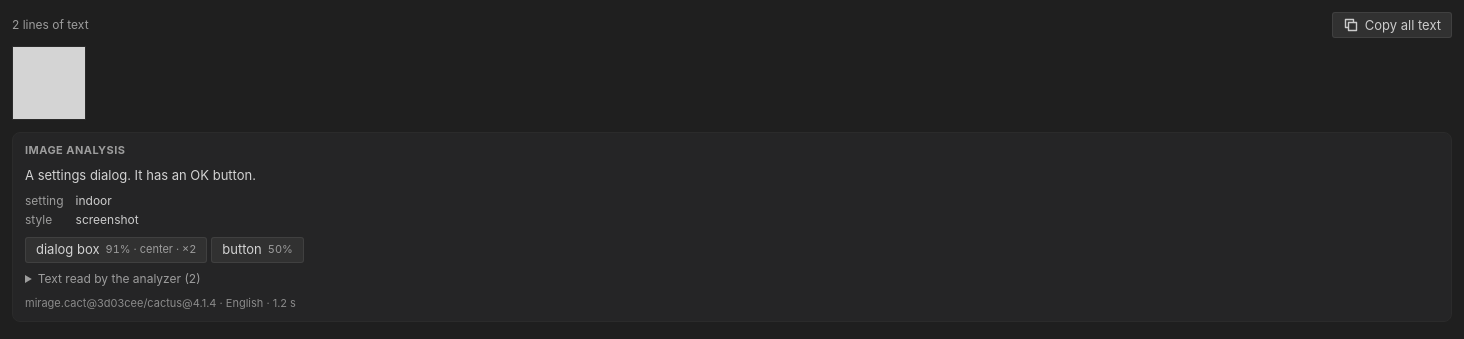
Test case: ScreenshotPreview › copies text through the bridge and confirms it
Click the button "Copy all text".
click(1392, 25)  # box [1332,12,1452,38]
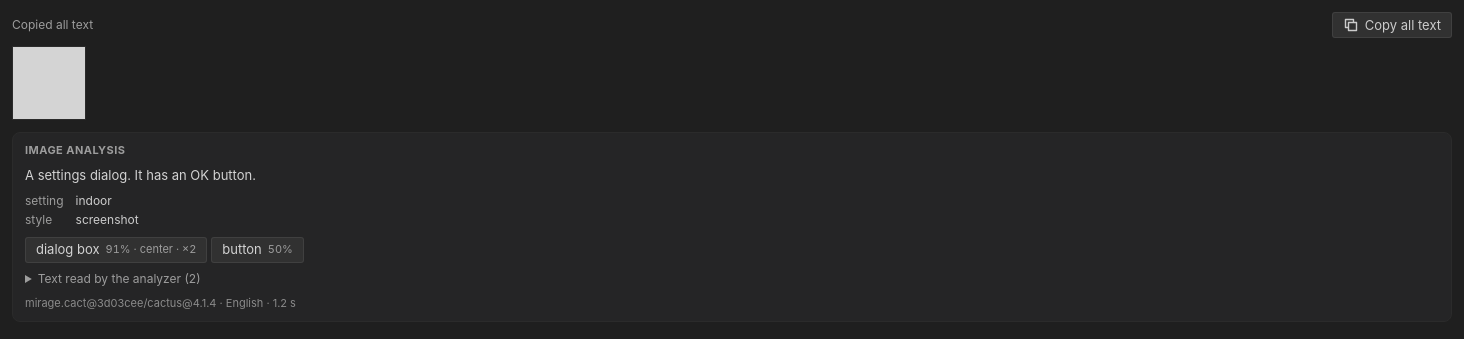
Check: the text "Copied all text" is shown, box [12,17,93,33]
